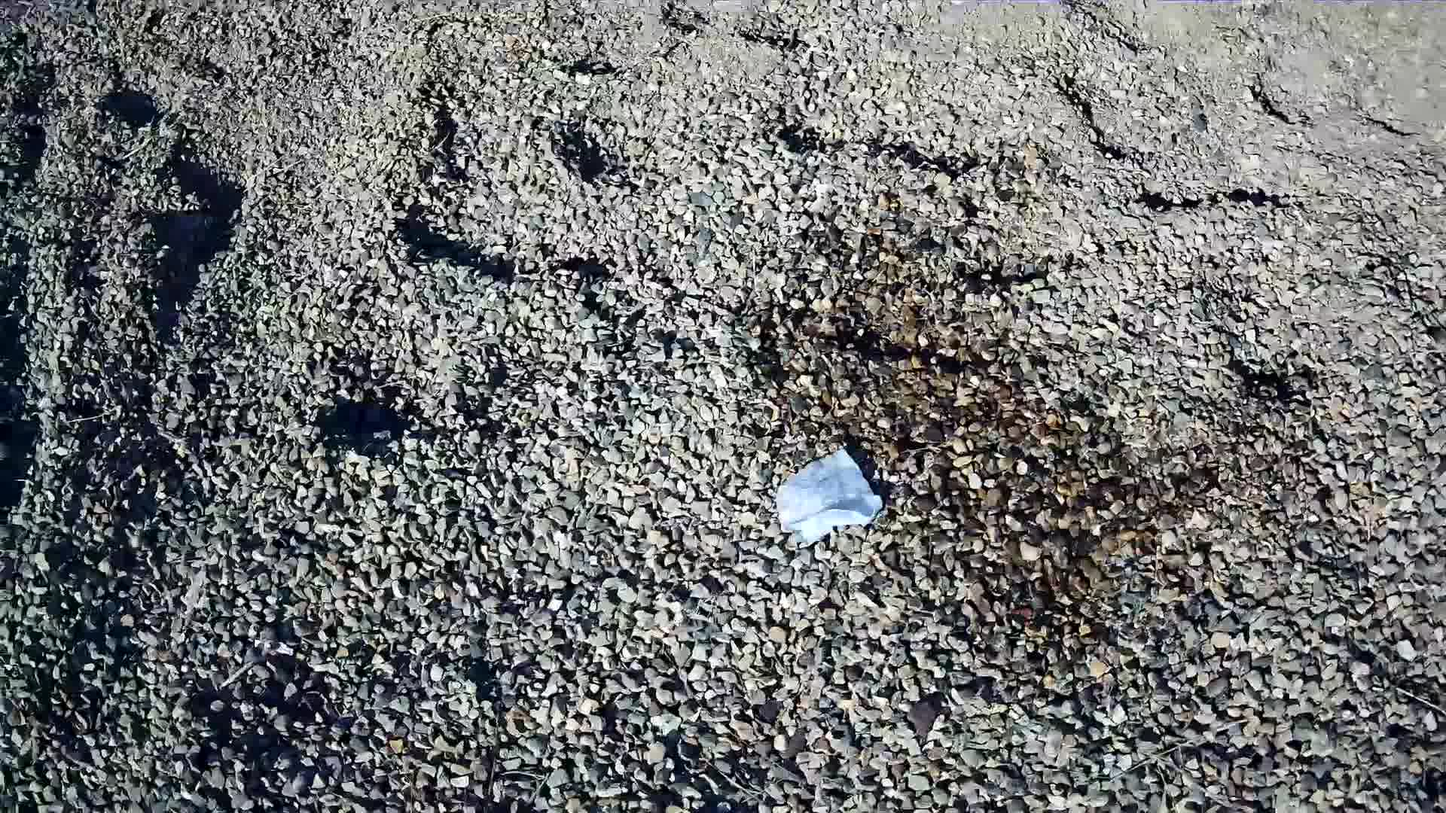Target: (780, 449, 880, 534)
